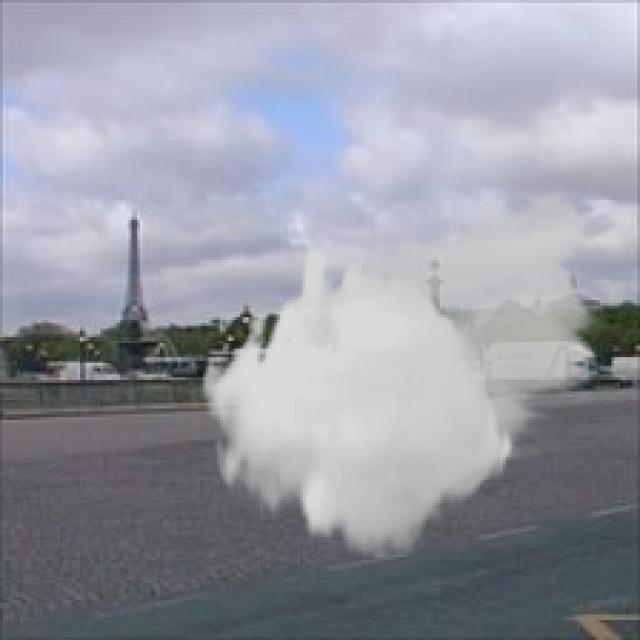smoke: (200, 177, 609, 557)
